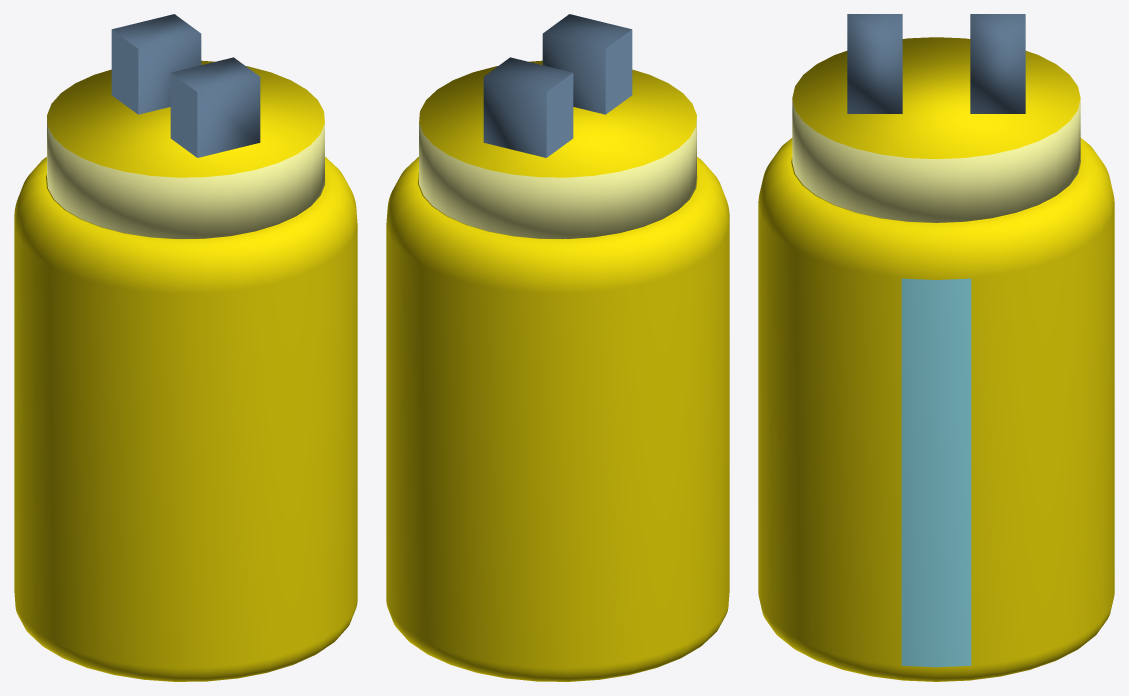
Rendered from Battery.fbx.
3 renders of one model, left to right at view 1: azimuth 30°, elevation 25°; view 2: azimuth 150°, elevation 25°; view 3: azimuth 270°, elevation 25°, orthographic. The views are drawn at different scales.
Parts seen in each view (by area): view 1: Cylinder, Cube, Cube.001; view 2: Cylinder, Cube.001, Cube; view 3: Cylinder, Cube, Cube.001.
Part boxes in pixels (x1,y1,x2,y2): Cylinder: (14, 60, 357, 681); Cube: (170, 57, 260, 157); Cube.001: (111, 14, 201, 114); Cylinder: (386, 60, 729, 681); Cube.001: (483, 57, 573, 157); Cube: (542, 14, 632, 114); Cylinder: (758, 37, 1114, 681); Cube: (847, 14, 902, 113); Cube.001: (970, 14, 1025, 113).
Size of the model in its own units: 136 by 246 by 136.
